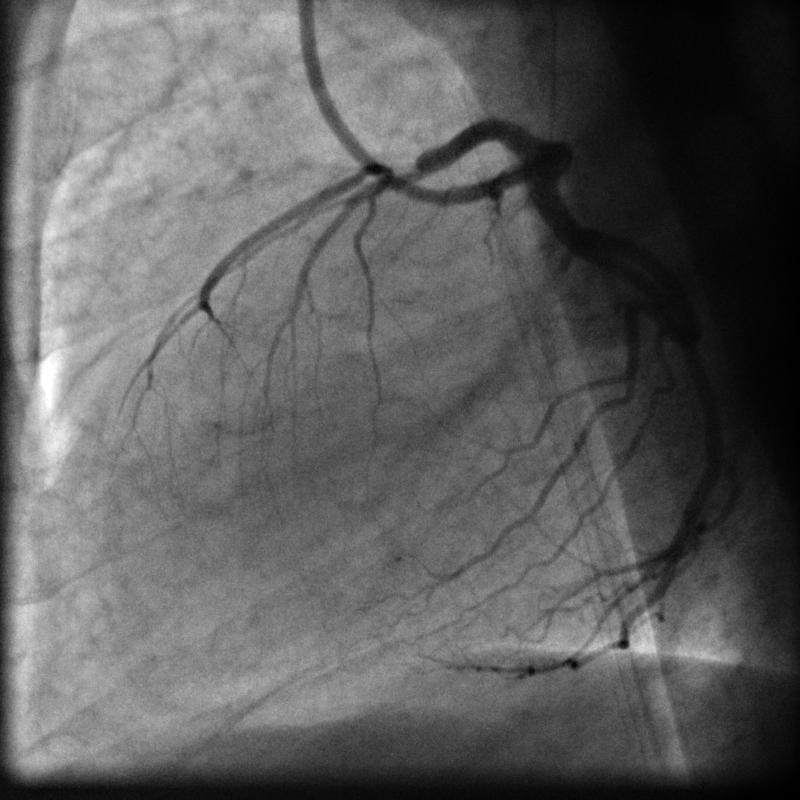Stenosis: (374, 152, 428, 199)
